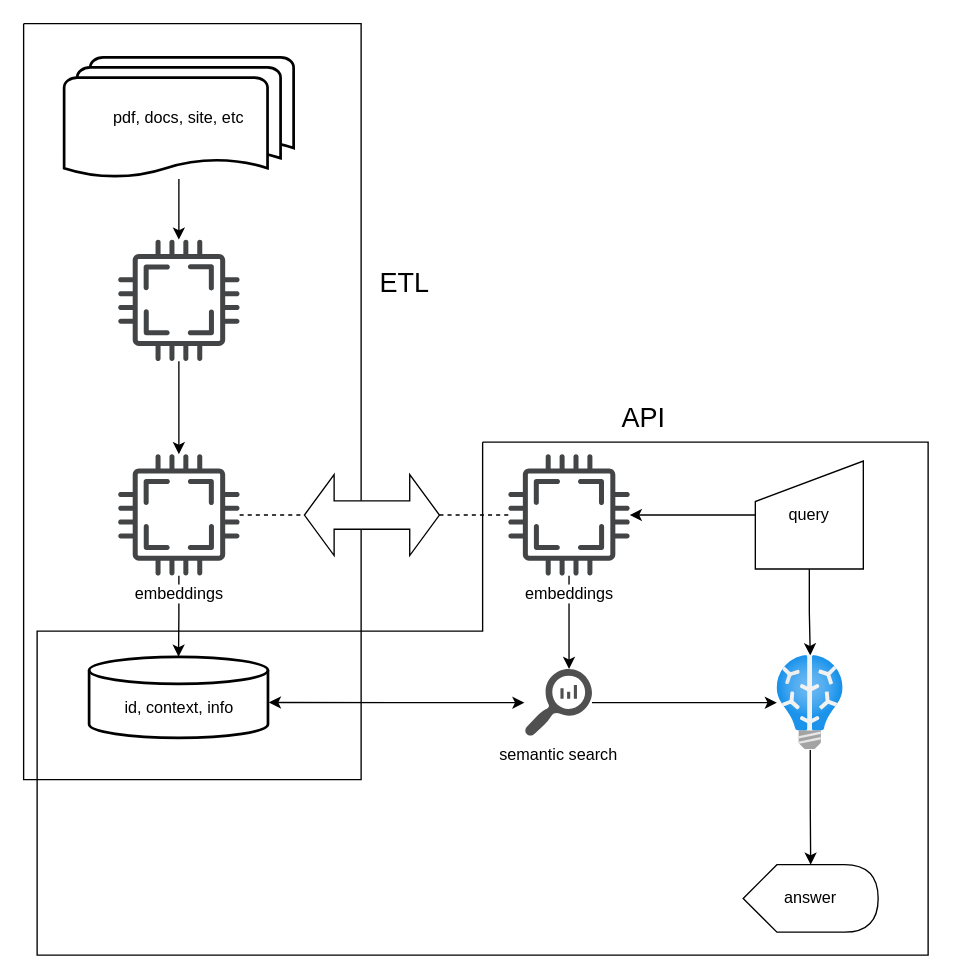
This 953x980 diagram has some shape labels left out. Each missing label, with the centre of its shape:
chatgpt, llama, phi3: point 809,702
mirror: point 371,514
txt splitter: point 178,299
